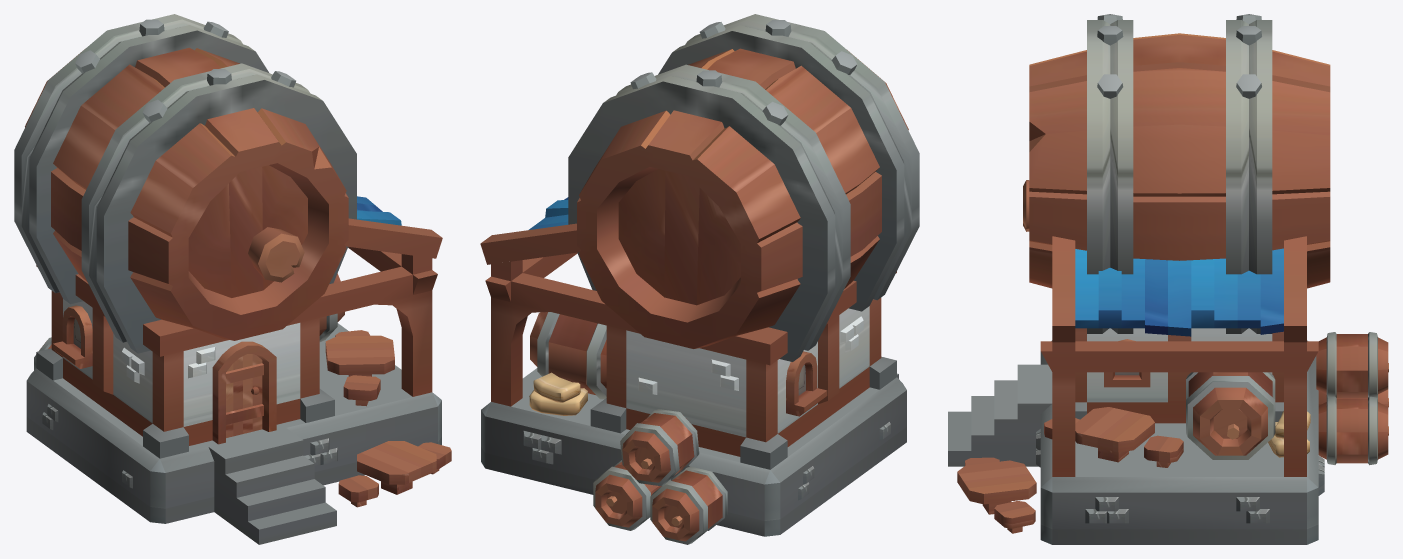
File: hex_tavern.glb
3 views of the same model, side by side, from view 1: azimuth 30°, elevation 25°; view 2: azimuth 150°, elevation 25°; view 3: azimuth 270°, elevation 25° (orthographic). The views are drawn at different scales.
Visible parts, largest first — view 1: building_tavern_blue; view 2: building_tavern_blue; view 3: building_tavern_blue.
Part boxes in pixels (box(x1,y1,x2,y2)): building_tavern_blue: box(14, 14, 451, 544); building_tavern_blue: box(480, 14, 919, 544); building_tavern_blue: box(948, 14, 1388, 544).
Size of the model in its own units: 1.17 by 1.4 by 1.33.
Materials: 1 (1 with a texture image).
